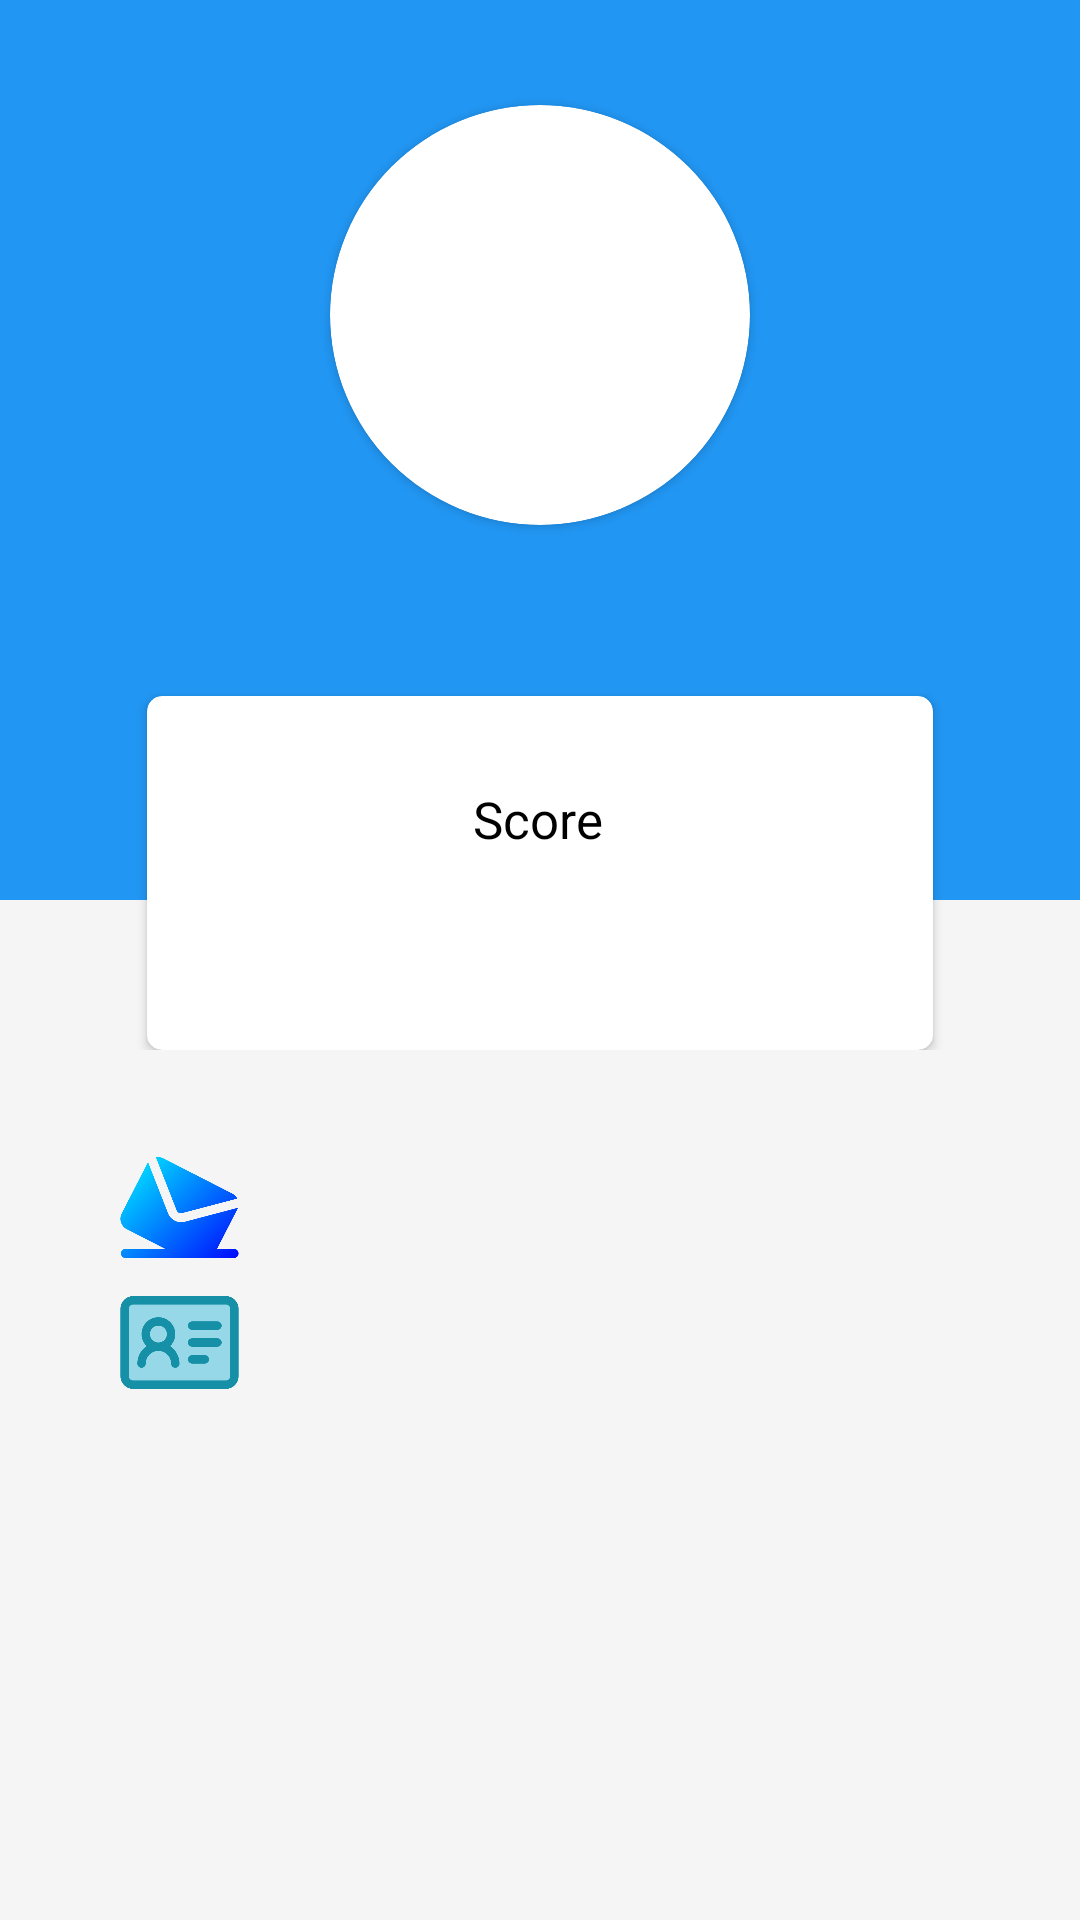

Point at icon controls on the screen. Image size 1080*1920, points as (x=x, y=y).
email: (x=179, y=1207)
